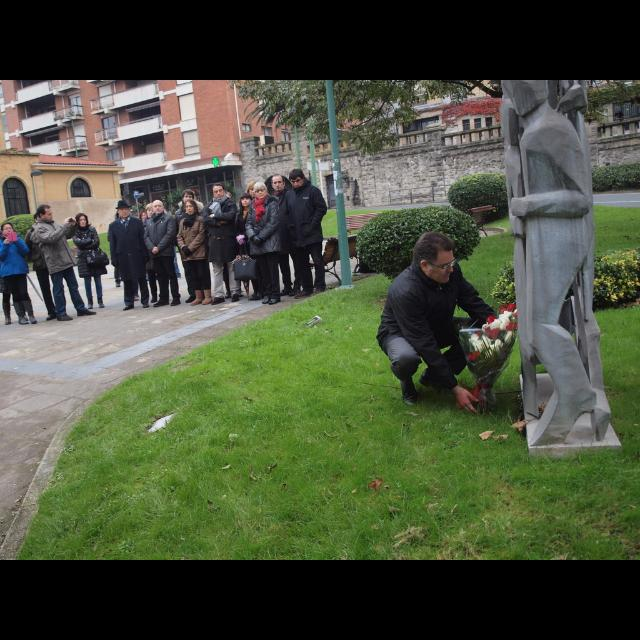Flower: (462, 295, 520, 363), (435, 94, 501, 126)
